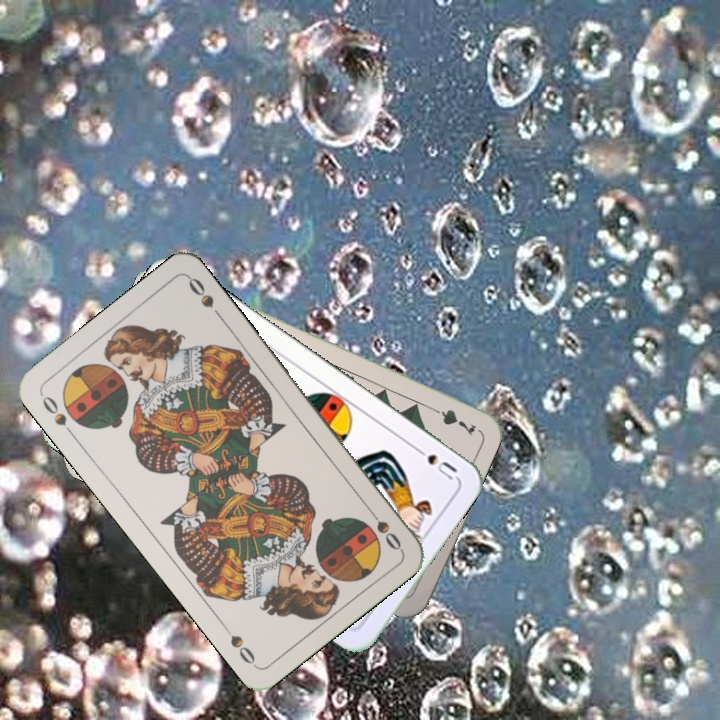G7: (423, 401, 479, 437)
SO: (363, 502, 404, 554), (37, 390, 78, 441)
SU: (408, 441, 460, 483)
